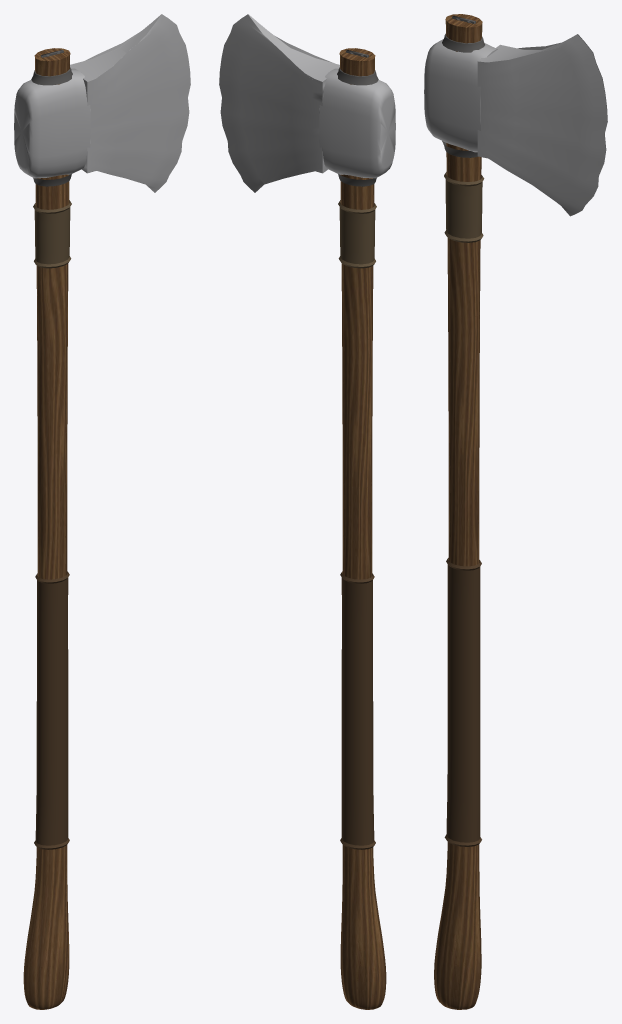
The model's file is gear_frontier_axe.glb.
3 renders of one model, left to right at view 1: azimuth 30°, elevation 25°; view 2: azimuth 150°, elevation 25°; view 3: azimuth 330°, elevation 25°, orthographic. The views are drawn at different scales.
Visible parts, largest first — view 1: gear_frontier_axe; view 2: gear_frontier_axe; view 3: gear_frontier_axe.
Boxes of the visible parts, x1,y1,x2,y2 form: gear_frontier_axe: (14, 14, 190, 1009); gear_frontier_axe: (219, 14, 395, 1009); gear_frontier_axe: (424, 14, 607, 1009).
Size of the model in its own units: 0.2394 by 1.31 by 0.056.
Materials: 5 (1 with a texture image).
